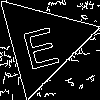E: (17, 17, 61, 70)
